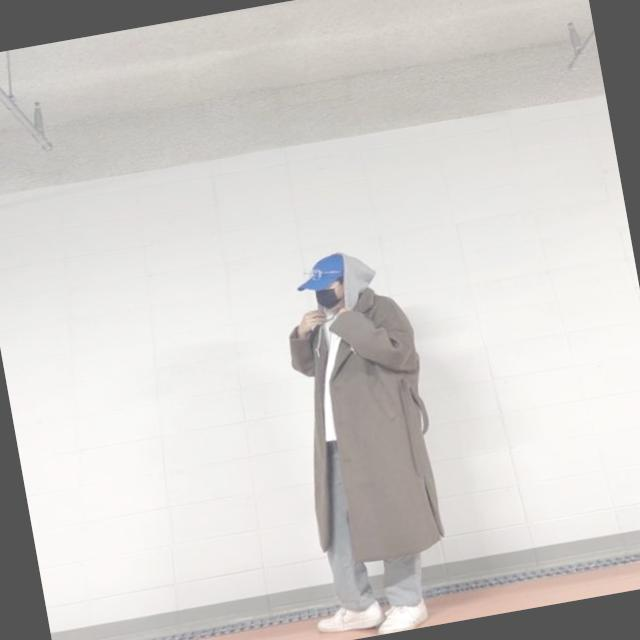coat: (280, 282, 452, 570)
denimpants: (305, 427, 427, 618)
